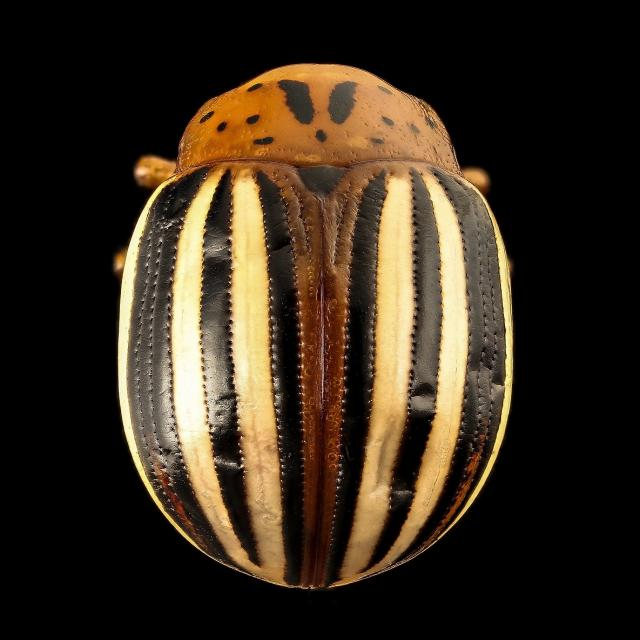ShuCaiHuaBanChong-Grown-: (95, 51, 529, 612)
